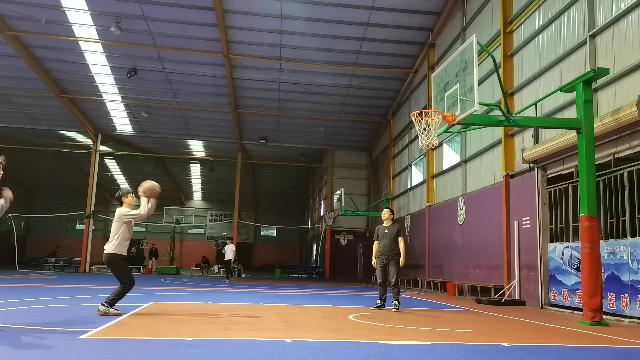ball: (138, 180, 160, 198)
basket: (409, 108, 445, 148), (324, 210, 334, 224)
